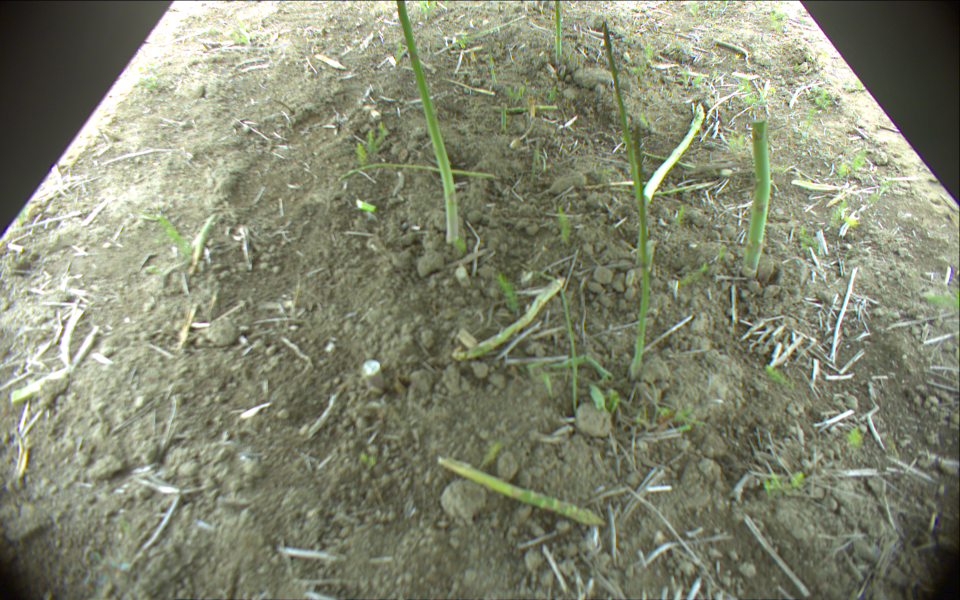aspa: (602, 24, 650, 378), (395, 1, 460, 243), (436, 456, 604, 524), (451, 277, 567, 359), (518, 264, 579, 413), (643, 101, 705, 200), (741, 119, 773, 282), (336, 164, 496, 180), (554, 1, 562, 61), (491, 103, 558, 109), (500, 100, 508, 130)
